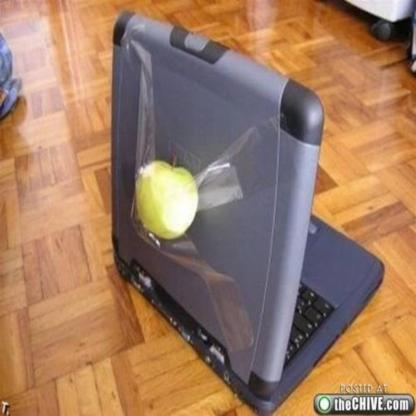board: (105, 27, 372, 404)
